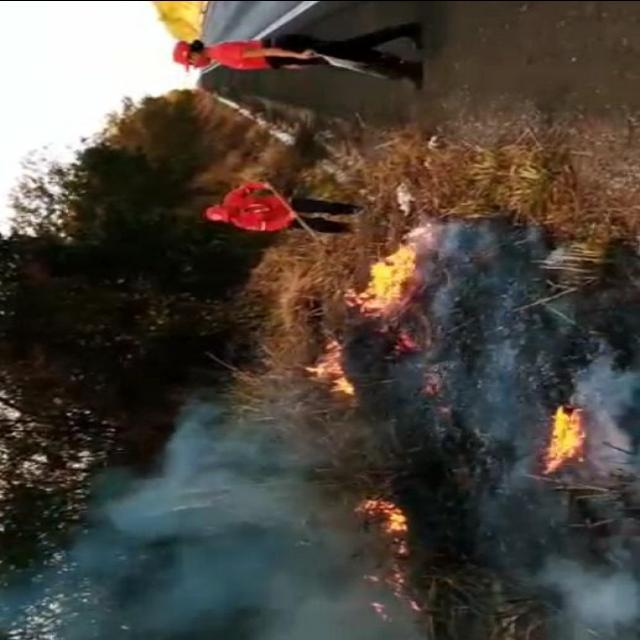Fire: (348, 248, 416, 310), (541, 407, 583, 476), (310, 355, 358, 393), (363, 495, 408, 533)
